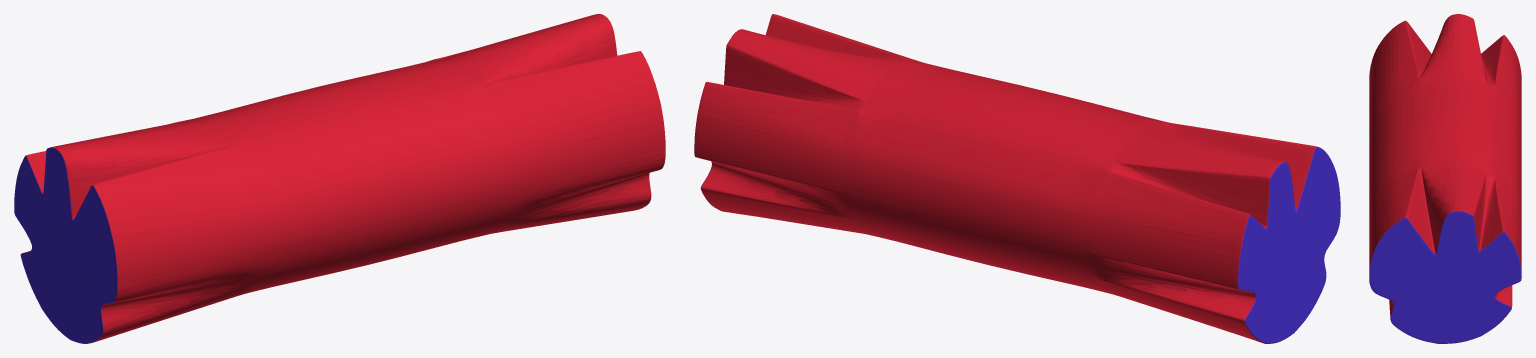
The model's file is campfire_log.fbx.
The picture shows the model from 3 angles, left to right: view 1: azimuth 30°, elevation 25°; view 2: azimuth 150°, elevation 25°; view 3: azimuth 270°, elevation 25°; orthographic projection. The views are drawn at different scales.
Parts seen in each view (by area): view 1: Cylinder; view 2: Cylinder; view 3: Cylinder.
Part boxes in pixels (x1,y1,x2,y2): Cylinder: [14, 14, 665, 343]; Cylinder: [694, 14, 1340, 343]; Cylinder: [1369, 14, 1521, 343].
Bounding box in the file's own units: 300 × 94.54 × 98.09.
